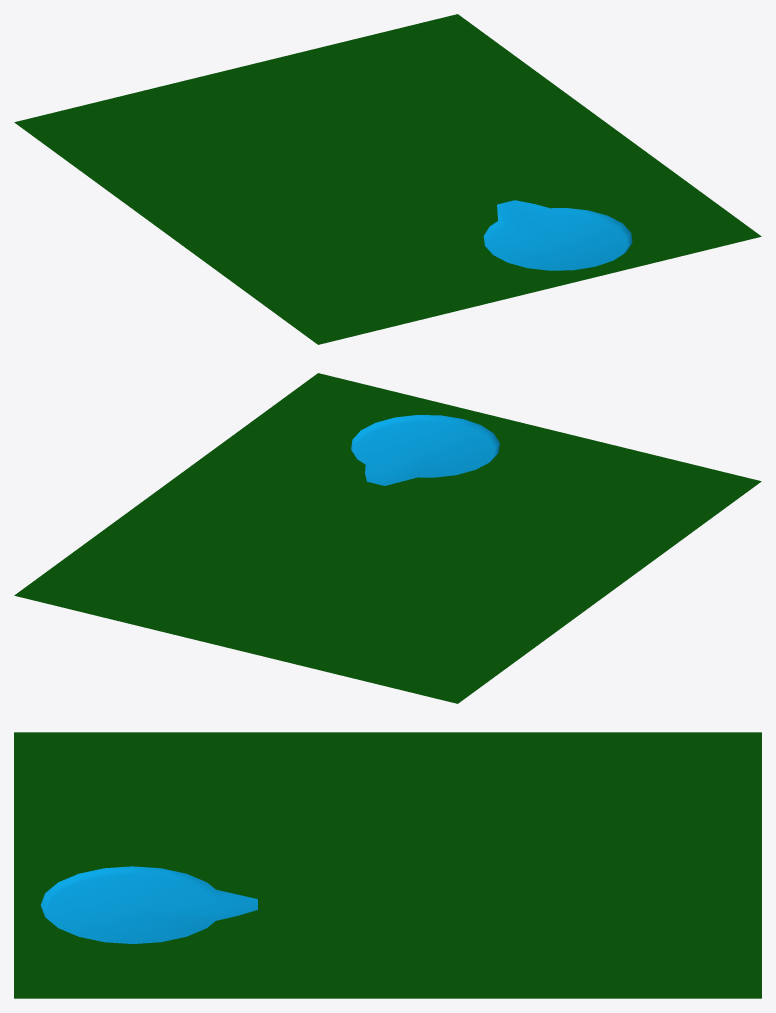
The model's file is Plain_grass_field.fbx.
3 renders of one model, top to bottom at view 1: azimuth 30°, elevation 25°; view 2: azimuth 150°, elevation 25°; view 3: azimuth 270°, elevation 25°, orthographic. The views are drawn at different scales.
Parts seen in each view (by area): view 1: pPlane8; view 2: pPlane8; view 3: pPlane8.
Part boxes in pixels (bbox=[...]): pPlane8: bbox=[14, 14, 761, 344]; pPlane8: bbox=[14, 373, 761, 703]; pPlane8: bbox=[14, 732, 761, 998].
Bounding box in the file's own units: 4500 × 44.71 × 5341.
